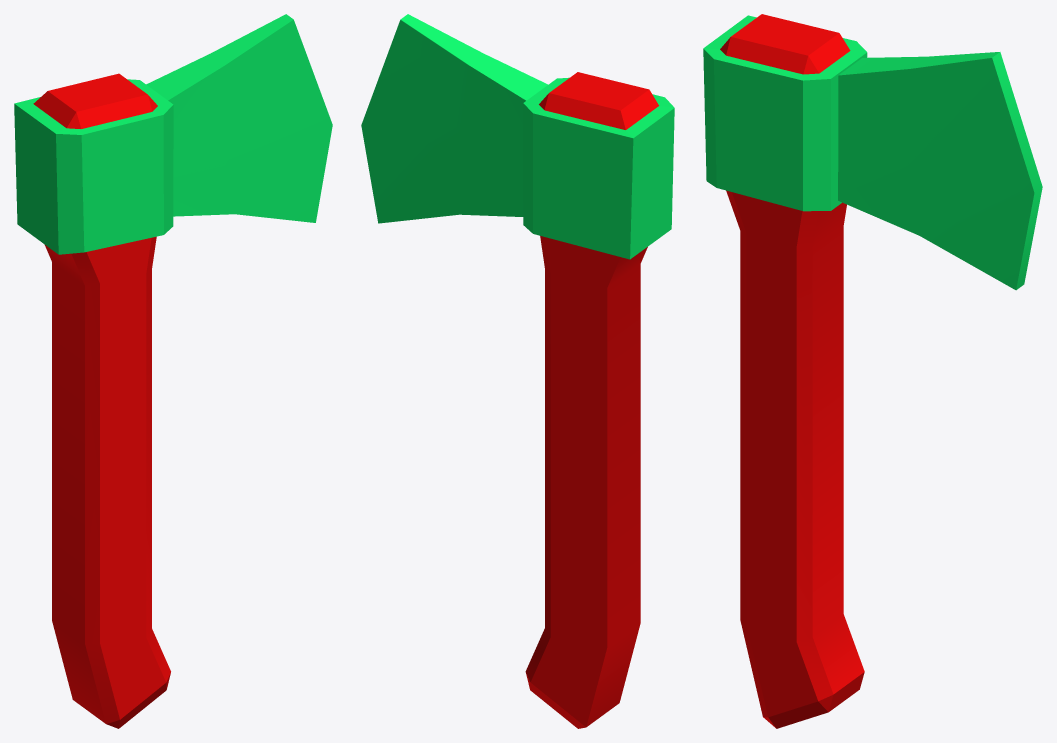
The model's file is axe.fbx.
3 views of the same model, side by side, from view 1: azimuth 30°, elevation 25°; view 2: azimuth 150°, elevation 25°; view 3: azimuth 330°, elevation 25° (orthographic). The views are drawn at different scales.
Visible parts, largest first — view 1: Handle, Head; view 2: Handle, Head; view 3: Handle, Head.
Boxes of the visible parts, box(x1,y1,x2,y2) form: Handle: box(33, 73, 170, 728); Head: box(14, 14, 332, 254); Handle: box(525, 72, 658, 728); Head: box(361, 14, 674, 259); Handle: box(720, 14, 864, 728); Head: box(703, 15, 1042, 290).
Bounding box in the file's own units: 21.88 × 6.44 × 47.04.
